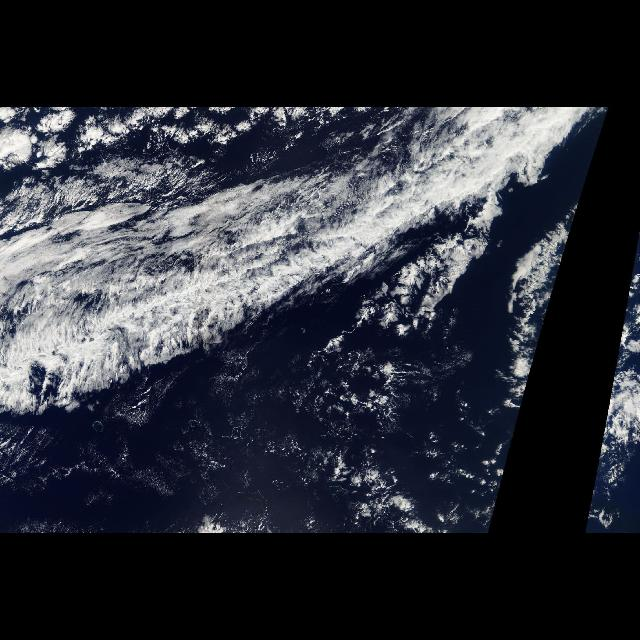Fish: (1, 126, 580, 418)
Flower: (1, 108, 365, 172)
